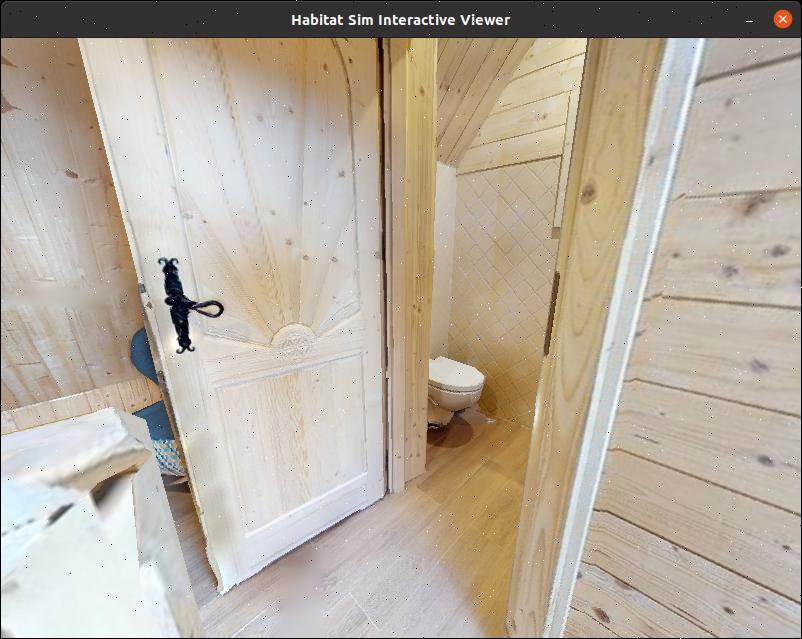door: (83, 41, 390, 568)
door-frame: (384, 42, 611, 637)
toilet: (405, 335, 493, 463)
